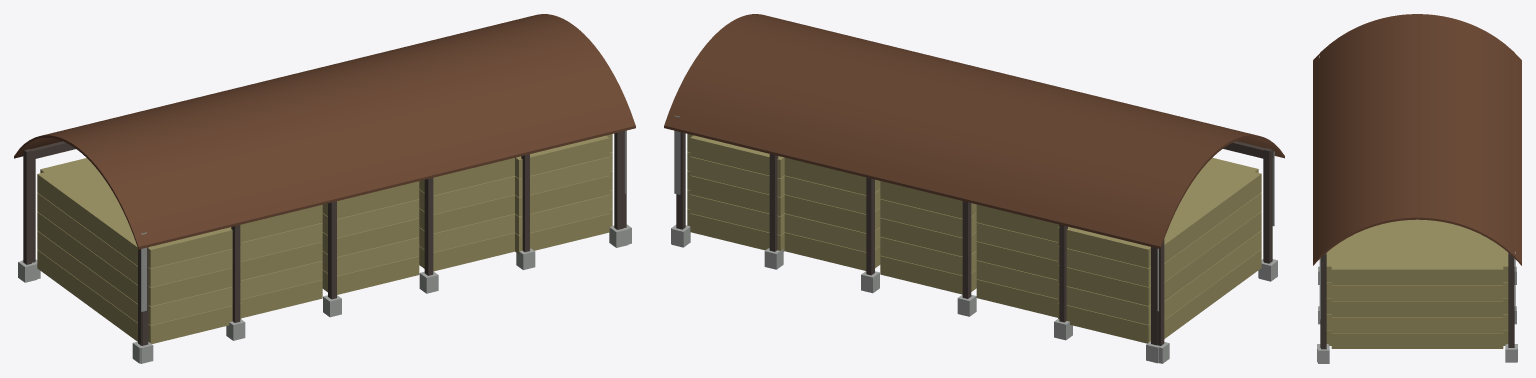
Rendered from context.farm.dutch_barn.glb.
3 views of the same model, side by side, from view 1: azimuth 30°, elevation 25°; view 2: azimuth 150°, elevation 25°; view 3: azimuth 270°, elevation 25° (orthographic). The views are drawn at different scales.
Parts seen in each view (by area): view 1: main__clad_643, main__fabric_996, main__fabric_a96, main__steel_544, main__concrete_aaa, main__steel_999; view 2: main__clad_643, main__fabric_996, main__fabric_a96, main__steel_544, main__concrete_aaa, main__steel_999; view 3: main__clad_643, main__fabric_996, main__fabric_a96, main__steel_544, main__concrete_aaa, main__steel_999.
Part boxes in pixels (box(x1,y1,x2,y2)): main__clad_643: box(14, 14, 635, 249); main__fabric_996: box(37, 134, 612, 343); main__fabric_a96: box(37, 152, 612, 325); main__steel_544: box(23, 130, 626, 345); main__concrete_aaa: box(18, 224, 631, 363); main__steel_999: box(141, 131, 625, 311); main__clad_643: box(664, 14, 1284, 248); main__fabric_996: box(687, 134, 1261, 343); main__fabric_a96: box(687, 152, 1261, 324); main__steel_544: box(676, 132, 1273, 345); main__concrete_aaa: box(671, 225, 1277, 363); main__steel_999: box(674, 115, 1274, 311); main__clad_643: box(1313, 14, 1521, 265); main__fabric_996: box(1326, 219, 1508, 348); main__fabric_a96: box(1326, 282, 1508, 332); main__steel_544: box(1320, 253, 1514, 349); main__concrete_aaa: box(1317, 266, 1517, 363); main__steel_999: box(1319, 55, 1515, 319).
Bounding box in the file's own units: 24.7 × 8.3 × 10.7.
